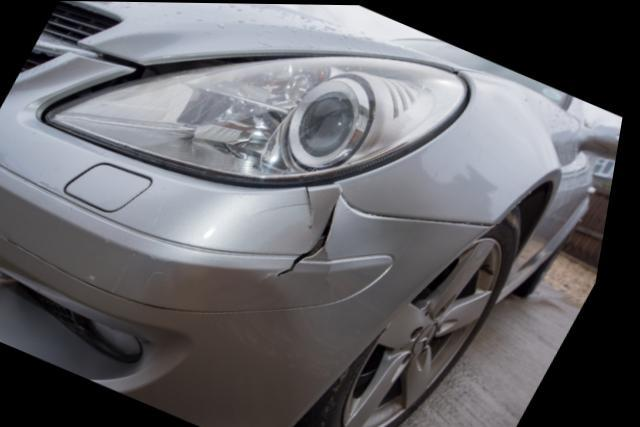crack: (269, 191, 346, 287), (254, 186, 320, 229)
